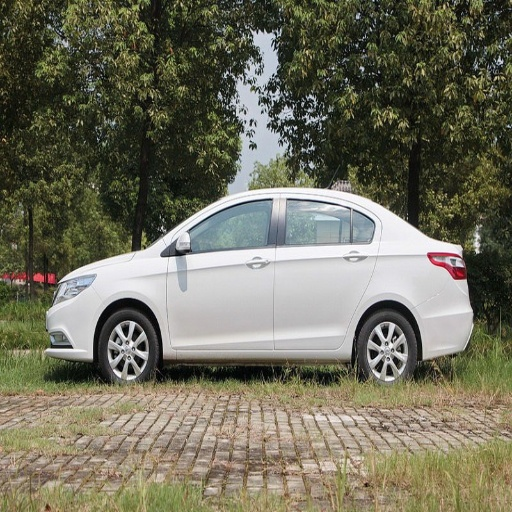back_left_door: (275, 195, 378, 349)
front_left_door: (167, 195, 279, 349)
